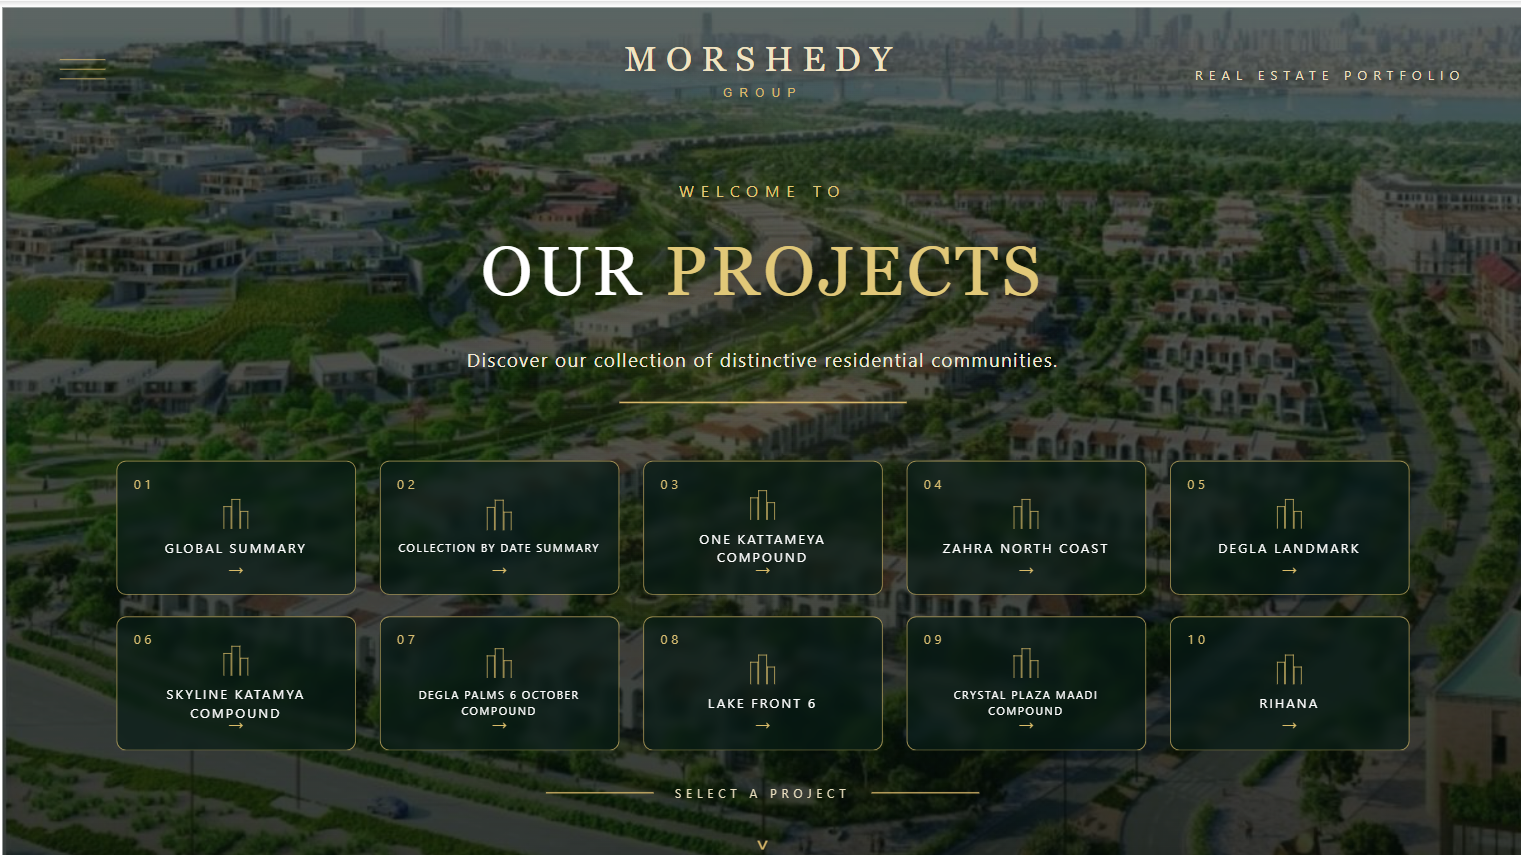

The dashboard page shown, as its layout file describes it:
{"tool":"powerbi","page":{"name":"Landing Page","canvas":[1280,720],"ordinal":0},"visuals":[{"type":"htmlContent443BE3AD55E043BF878BED274D3A6855","fields":{"content":["Landing.Landing Page"]},"box":[0,0,1280,720.8],"z":0},{"type":"actionButton","box":[322.5,513.3,196.8,110.5],"z":1000},{"type":"actionButton","box":[542.1,514.8,198.4,109],"z":2000},{"type":"actionButton","box":[322,384.6,196.7,111.5],"z":3000},{"type":"actionButton","box":[100.4,382.9,199.2,111.2],"z":4000},{"type":"actionButton","box":[540.9,383.4,198.3,110.8],"z":5000},{"type":"actionButton","box":[761,383.4,199.7,110.8],"z":6000},{"type":"actionButton","box":[761,383.4,199.7,110.8],"z":7000},{"type":"actionButton","box":[761,513.2,199.7,110.8],"z":8000},{"type":"actionButton","box":[979.7,514.6,199.7,110.8],"z":9000},{"type":"actionButton","box":[979.7,383.4,199.7,110.8],"z":10000},{"type":"actionButton","box":[100.6,514.6,199.7,110.8],"z":11000}]}

Visuals, with their boxes in screenshot pixels (x1, y1, x2, y2), scaled from the page's 1280x720 canvas onto the 1521x855 screenshot:
htmlContent443BE3AD55E043BF878BED274D3A6855 - Landing.Landing Page: <region>0, 0, 1520, 854</region>
actionButton: <region>383, 610, 617, 741</region>
actionButton: <region>644, 611, 880, 741</region>
actionButton: <region>383, 457, 616, 589</region>
actionButton: <region>119, 455, 356, 587</region>
actionButton: <region>643, 455, 878, 587</region>
actionButton: <region>904, 455, 1142, 587</region>
actionButton: <region>904, 455, 1142, 587</region>
actionButton: <region>904, 609, 1142, 741</region>
actionButton: <region>1164, 611, 1401, 743</region>
actionButton: <region>1164, 455, 1401, 587</region>
actionButton: <region>120, 611, 357, 743</region>
